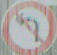Don't turn left: (2, 1, 54, 54)
